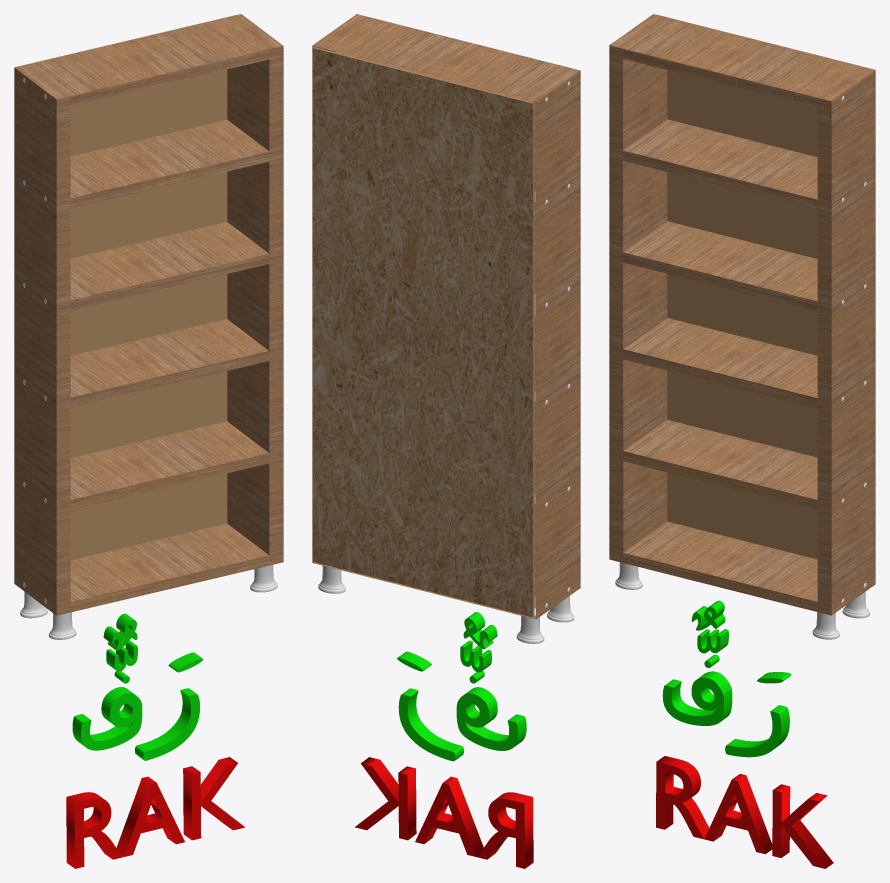
File: kitaplık.fbx
3 renders of one model, left to right at view 1: azimuth 30°, elevation 25°; view 2: azimuth 150°, elevation 25°; view 3: azimuth 330°, elevation 25°, orthographic.
Visible parts, largest first — view 1: Cube, Plane, Teks, Text, Text.002, Text.003, Cylinder.001, Cylinder.002; view 2: Plane, Cube, Teks, Text, Text.002, Text.003, Cylinder.003, Cylinder; view 3: Cube, Plane, Teks, Text, Text.002, Text.003, Cylinder.001, Cylinder.002.
Boxes of the visible parts, box(x1,y1,x2,y2) form: Cube: box(14, 14, 283, 615); Plane: box(15, 14, 237, 560); Teks: box(66, 757, 245, 868); Text: box(72, 671, 199, 760); Text.002: box(103, 613, 137, 650); Text.003: box(106, 640, 137, 671); Cylinder.001: box(250, 565, 277, 592); Cylinder.002: box(48, 612, 76, 639); Plane: box(312, 47, 534, 617); Cube: box(312, 14, 580, 619); Teks: box(355, 757, 533, 868); Text: box(398, 671, 526, 761); Text.002: box(463, 612, 497, 649); Text.003: box(460, 640, 491, 672); Cylinder.003: box(516, 608, 544, 643); Cylinder: box(318, 566, 345, 593); Cube: box(609, 14, 875, 615); Plane: box(657, 14, 874, 559); Teks: box(656, 756, 833, 868); Text: box(662, 654, 789, 757); Text.002: box(691, 600, 725, 630); Text.003: box(697, 629, 728, 653); Cylinder.001: box(812, 612, 839, 639); Cylinder.002: box(615, 562, 642, 589).
Bounding box in the file's own units: 308 × 1022 × 109.
